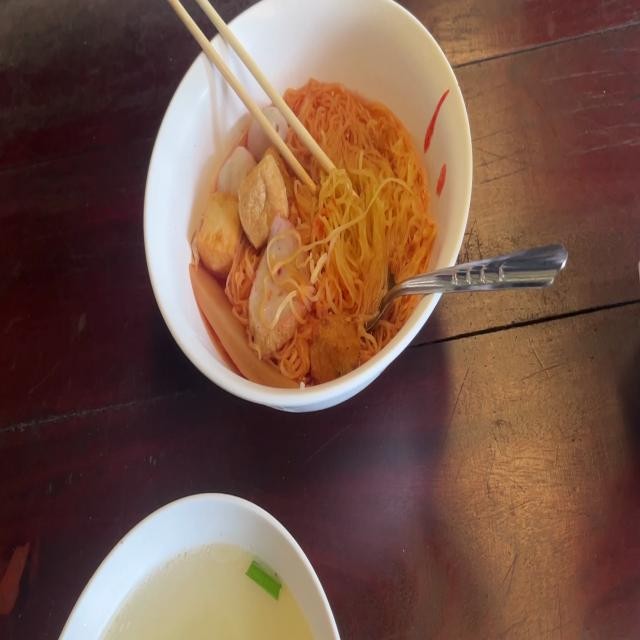crunchy_squid: (187, 266, 296, 395)
egg_noodles: (289, 87, 424, 322)
fish_ball: (247, 105, 286, 159), (218, 144, 253, 196)
fried_fish_balls: (249, 213, 305, 353)
fried_tofu: (242, 147, 290, 233)
noodle: (198, 75, 424, 379)
tofu: (199, 191, 247, 269)
